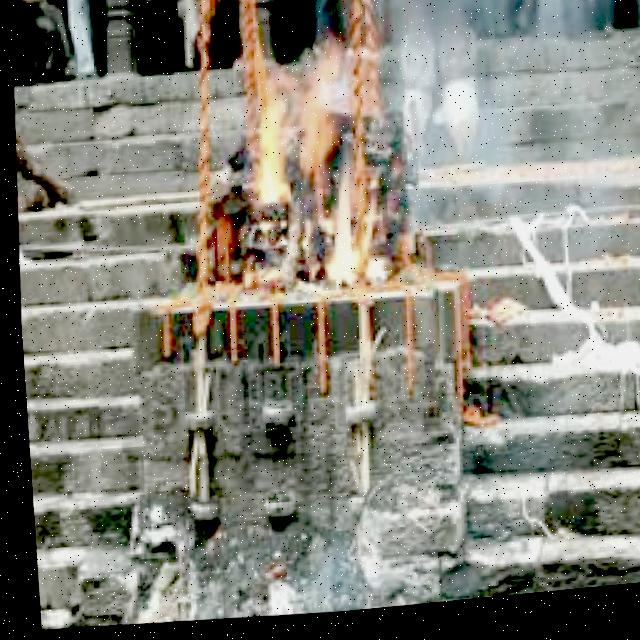Smoke: (232, 40, 389, 300)
